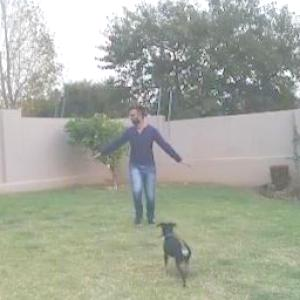land: (89, 99, 212, 235)
